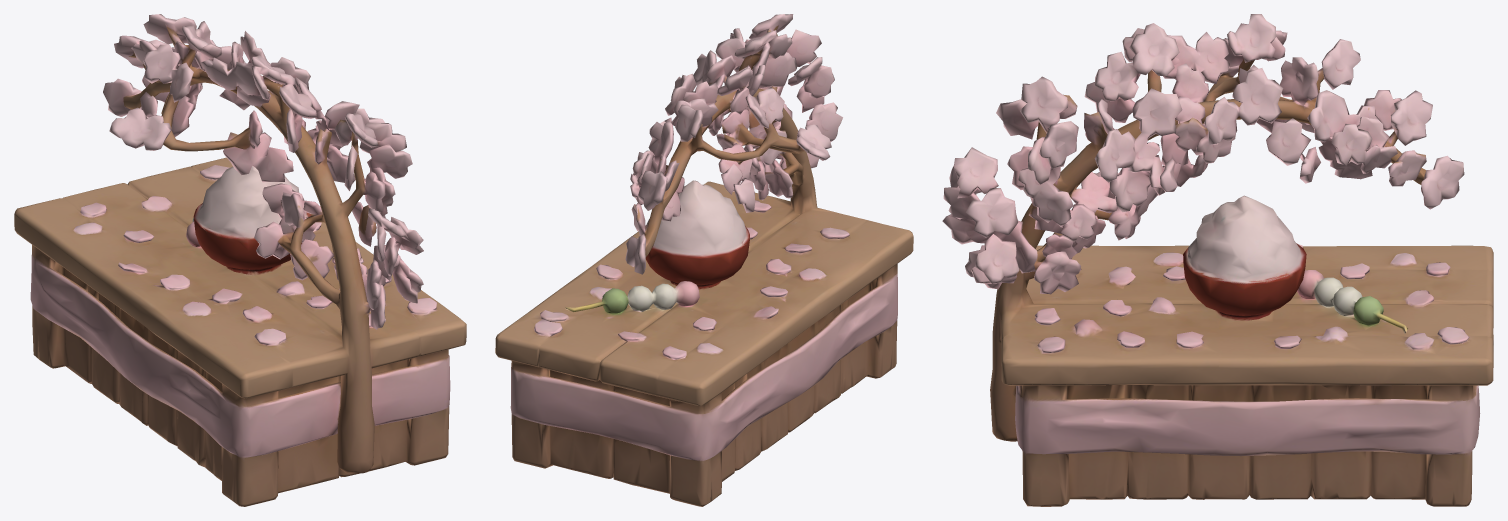
The model's file is JP_사물_s2_station_topping_t3_v2.glb.
The picture shows the model from 3 angles, left to right: view 1: azimuth 30°, elevation 25°; view 2: azimuth 150°, elevation 25°; view 3: azimuth 270°, elevation 25°; orthographic projection. The views are drawn at different scales.
Visible parts, largest first — view 1: tripo_node_47ac4b2a-9af0-44c4-aef0-0d8ac168f932; view 2: tripo_node_47ac4b2a-9af0-44c4-aef0-0d8ac168f932; view 3: tripo_node_47ac4b2a-9af0-44c4-aef0-0d8ac168f932.
Part boxes in pixels (x1,y1,x2,y2): tripo_node_47ac4b2a-9af0-44c4-aef0-0d8ac168f932: (14, 14, 466, 506); tripo_node_47ac4b2a-9af0-44c4-aef0-0d8ac168f932: (495, 14, 913, 506); tripo_node_47ac4b2a-9af0-44c4-aef0-0d8ac168f932: (942, 14, 1493, 506).
Size of the model in its own units: 0.5451 by 0.8314 by 1.
Materials: 1 (1 with a texture image).
